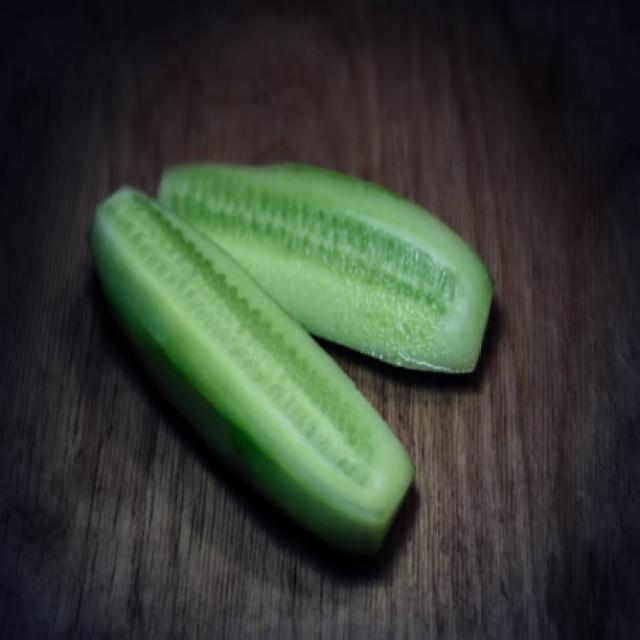cucumber: (91, 182, 416, 555), (161, 164, 494, 377)
